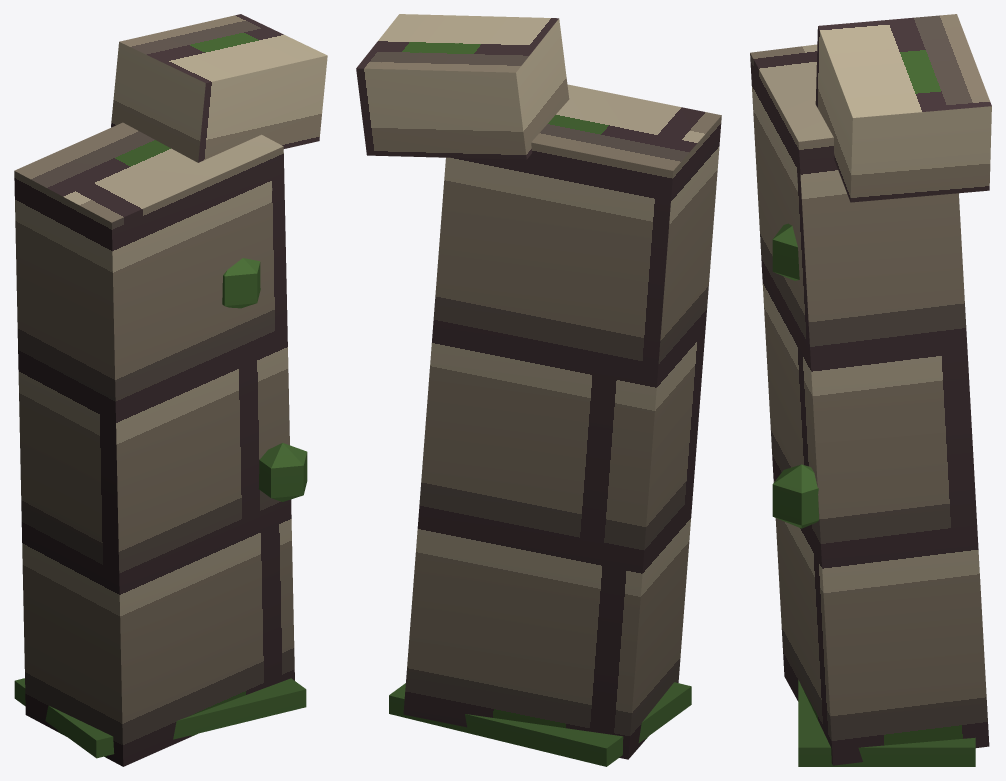
Rendered from standing_stone.glb.
3 renders of one model, left to right at view 1: azimuth 30°, elevation 25°; view 2: azimuth 150°, elevation 25°; view 3: azimuth 270°, elevation 25°, orthographic. The views are drawn at different scales.
Visible parts, largest first — view 1: standing_stone; view 2: standing_stone; view 3: standing_stone.
Part boxes in pixels (x1=…): standing_stone: x1=14, y1=14, x2=327, y2=766; standing_stone: x1=356, y1=14, x2=721, y2=766; standing_stone: x1=750, y1=14, x2=991, y2=766.
Bounding box in the file's own units: 1.02 × 2.18 × 0.6821.
Materials: 2 (1 with a texture image).
